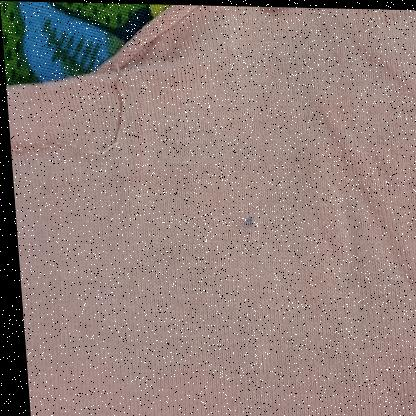spot: (236, 211, 253, 231)
